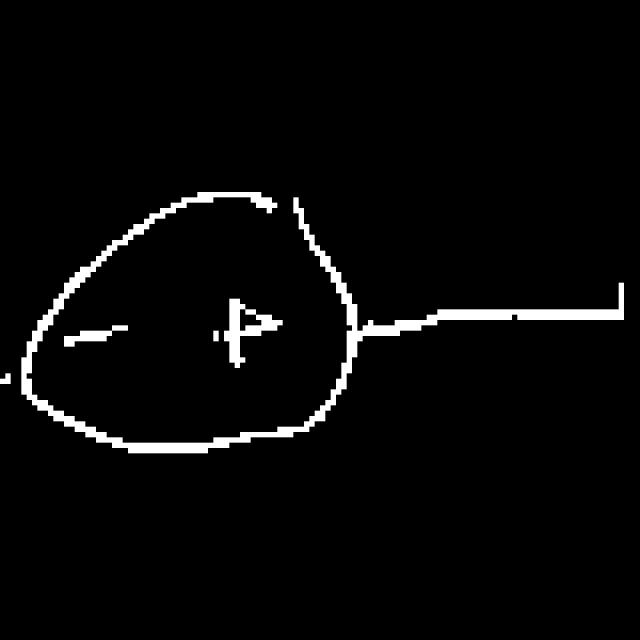voltage_source: (18, 169, 357, 479)
